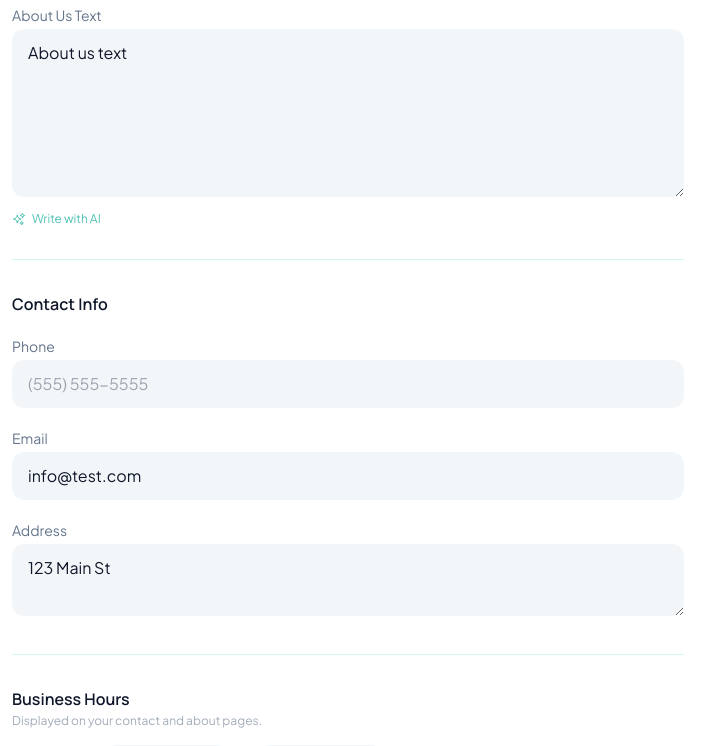
Test: phone formatting › 4 digits format as (XXX) X
(page scrolled)
Type "5551" into the field labelled "Phone" at (348, 384), box [12,360,684,408]
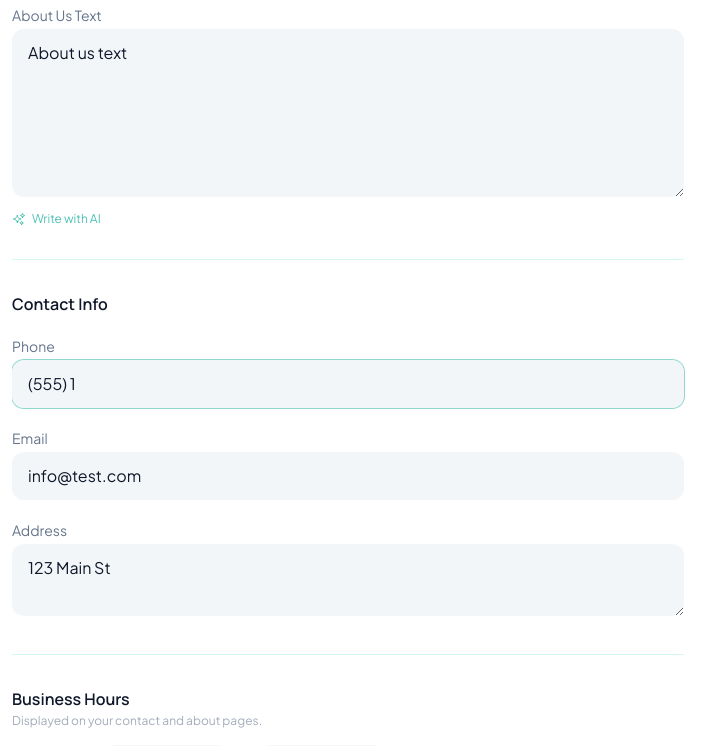
Expected: the field labelled "Phone" holds "(555) 1", [12,360,684,408]
